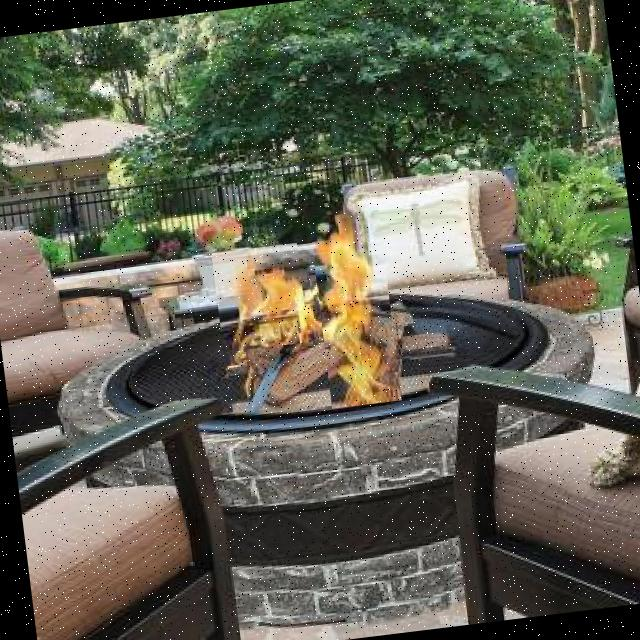fire: (308, 209, 402, 408), (210, 241, 308, 352)
